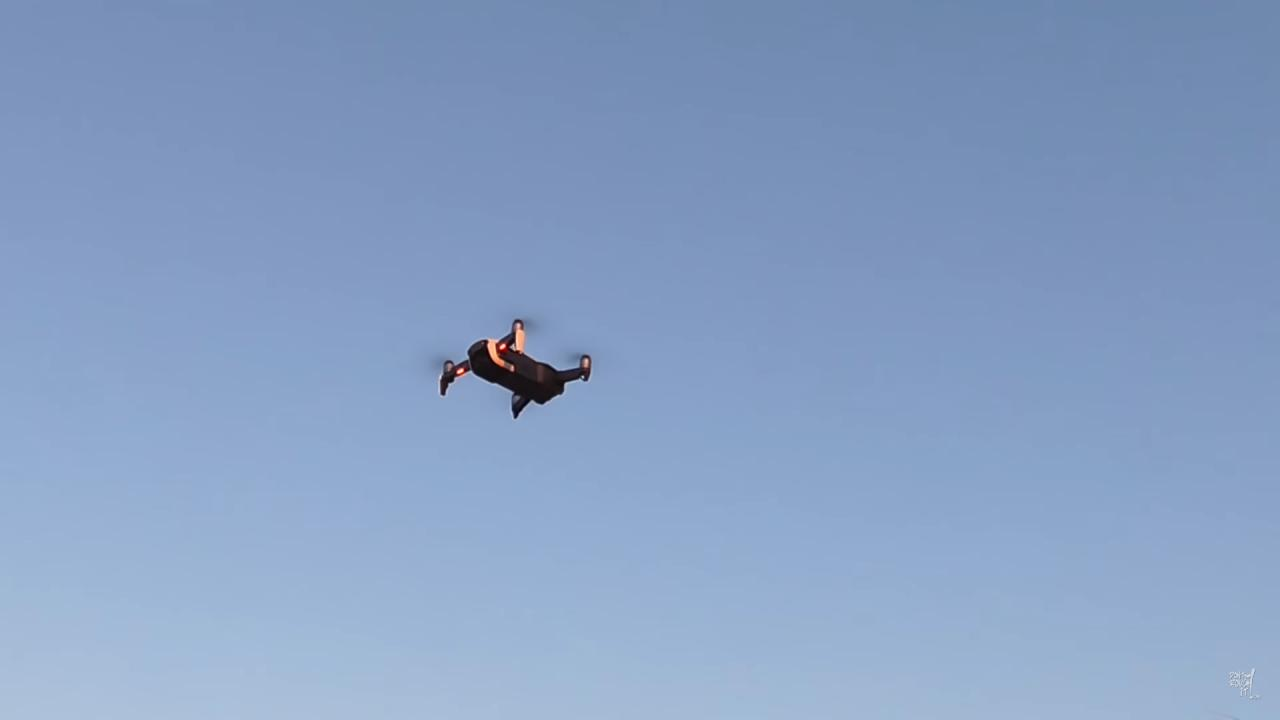Drone: (406, 301, 617, 434)
